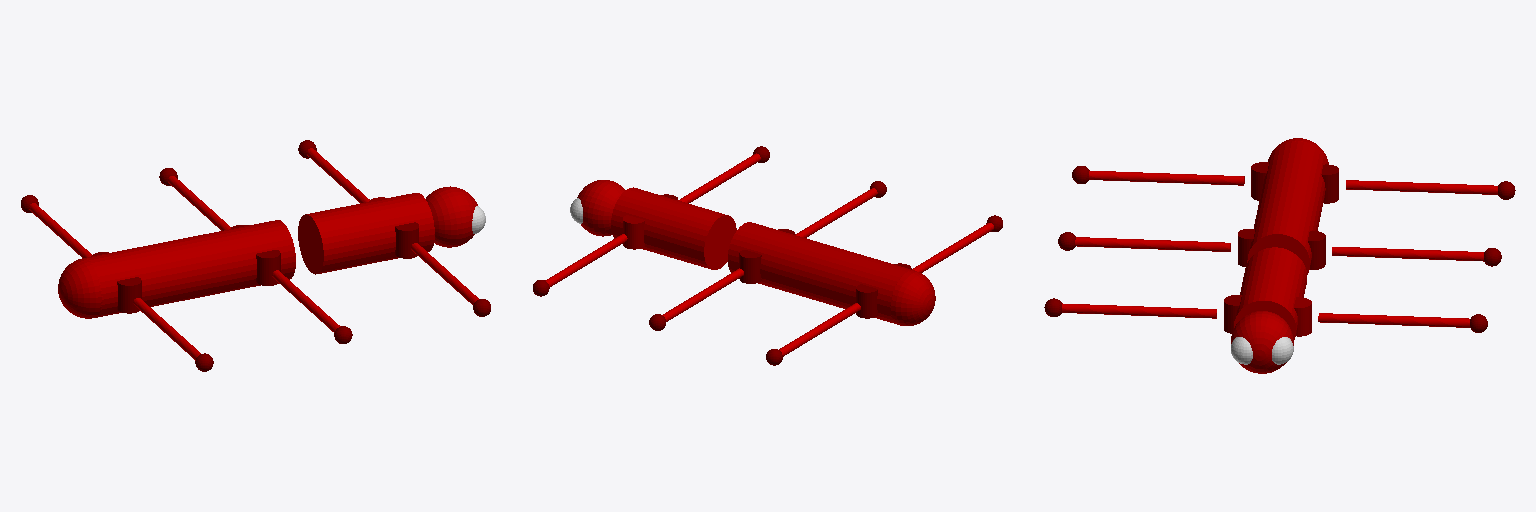
--- Facts derived from the render (not from the file) ---
Views: 3 orthographic renders of the robot side by side, from view 1: azimuth 30°, elevation 25°; view 2: azimuth 150°, elevation 25°; view 3: azimuth 270°, elevation 25°.
Model Body with 20 links and 19 joints (19 continuous), rooted at robot_base, posed every joint at zero.
Links seen in each view (by area): view 1: Bottom, robot_base, Coxa_4, Coxa_3, Tibia_4, Tibia_3, Tibia_6, Coxa_6, Tibia_5, Tibia, Tibia_2; view 2: Bottom, robot_base, Tibia, Tibia_2, Tibia_5, Tibia_3, Tibia_6, Tibia_4, Coxa, Coxa_2, Coxa_5; view 3: robot_base, Bottom, Tibia_3, Tibia_6, Tibia_4, Tibia_5, Tibia, Tibia_2, Femur_4, Femur_3, Femur_2, Femur_6 (+5 smaller).
Boxes of the visible links, x1,y1,x2,y2 form: Bottom: (58, 220, 295, 318); robot_base: (298, 186, 485, 274); Coxa_4: (117, 277, 141, 313); Coxa_3: (256, 250, 280, 285); Tibia_4: (159, 321, 213, 371); Tibia_3: (298, 294, 352, 343); Tibia_6: (437, 266, 490, 316); Coxa_6: (395, 222, 418, 258); Tibia_5: (298, 140, 349, 186); Tibia: (159, 168, 209, 215); Tibia_2: (21, 195, 70, 242); Bottom: (728, 222, 935, 325); robot_base: (570, 180, 736, 269); Tibia: (649, 288, 711, 330); Tibia_2: (766, 323, 827, 365); Tibia_5: (533, 254, 594, 296); Tibia_3: (825, 181, 886, 223); Tibia_6: (709, 146, 769, 189); Tibia_4: (943, 215, 1002, 257); Coxa: (739, 250, 761, 283); Coxa_2: (856, 284, 877, 318); Coxa_5: (623, 215, 644, 249); robot_base: (1231, 247, 1306, 373); Bottom: (1247, 138, 1328, 274); Tibia_3: (1058, 232, 1167, 250); Tibia_6: (1044, 298, 1153, 316); Tibia_4: (1072, 166, 1180, 183); Tibia_5: (1381, 314, 1487, 332); Tibia: (1395, 248, 1501, 266); Tibia_2: (1409, 181, 1515, 199); Femur_4: (1181, 174, 1244, 185); Femur_3: (1167, 240, 1230, 251); Femur_2: (1346, 180, 1408, 191); Femur_6: (1154, 307, 1216, 318).
Size in the robot's own frame: 0.7473 by 0.7459 by 0.1 metres.
Geometry: only primitive shapes (box / cylinder / sphere) drawn; not drawn: 2 mesh visuals (reference in a form the renderer does not follow).

robot.urdf — Body:
<?xml version="1.0"?>
<robot name="Body">
    <link name="robot_base">
        <inertial>
            <origin rpy="-1.570732 4.614213 -1.658126" xyz="-1.302407 -0.149667 0.124992" />
            <inertia izz="5.6240590621472e-06" iyy="3.9195142741455e-05" ixx="3.9369546794003e-05" iyz="7.21947716711e-11" ixz="1.4883479783928e-09" ixy="-2.7996715150358e-13" />
            <mass value="0.0049999998882413" />
        </inertial>
        <collision name="Body">
            <origin xyz="-1.349835 -0.145640 0.125000" rpy="2.896195 4.712383 -2.983463" />
            <geometry>
                <cylinder radius="0.050000000745058" length="0.20000000298023" />
            </geometry>
        </collision>
        <collision name="Body">
            <origin xyz="-1.175381 -0.133716 0.124975" rpy="-3.141593 3.141593 -2.356194" />
            <geometry>
                <sphere radius="0.025000000372529" />
            </geometry>
        </collision>
        <collision name="Body">
            <origin xyz="-1.200382 -0.158716 0.124975" rpy="2.929281 4.712383 -3.016549" />
            <geometry>
                <sphere radius="0.050000000745058" />
            </geometry>
        </collision>
        <collision name="Body">
            <origin xyz="-1.250191 -0.154358 0.124976" rpy="0.135751 1.570807 0.048483" />
            <geometry>
                <cylinder radius="0.025000000372529" length="0.050000000745058" />
            </geometry>
        </collision>
        <collision name="Body">
            <origin xyz="-1.175382 -0.183716 0.124975" rpy="3.141593 3.141593 2.356195" />
            <geometry>
                <sphere radius="0.025000000372529" />
            </geometry>
        </collision>
        <visual name="Body">
            <origin xyz="-1.349835 -0.145640 0.125000" rpy="2.896195 4.712383 -2.983463" />
            <geometry>
                <cylinder radius="0.050000000745058" length="0.20000000298023" />
            </geometry>
            <material name="robot_base_material">
                <color rgba="0.720000 0.000000 0.000000 1.0" />
            </material>
        </visual>
        <visual name="Body">
            <origin xyz="-1.175381 -0.133716 0.124975" rpy="-3.141593 3.141593 -2.356194" />
            <geometry>
                <sphere radius="0.025000000372529" />
            </geometry>
            <material name="robot_base_material">
                <color rgba="0.850000 0.850000 0.850000 1.0" />
            </material>
        </visual>
        <visual name="Body">
            <origin xyz="-1.200382 -0.158716 0.124975" rpy="2.929281 4.712383 -3.016549" />
            <geometry>
                <sphere radius="0.050000000745058" />
            </geometry>
            <material name="robot_base_material">
                <color rgba="0.712421 0.007579 0.007579 1.0" />
            </material>
        </visual>
        <visual name="Body">
            <origin xyz="-1.250191 -0.154358 0.124976" rpy="0.135751 1.570807 0.048483" />
            <geometry>
                <cylinder radius="0.025000000372529" length="0.050000000745058" />
            </geometry>
            <material name="robot_base_material">
                <color rgba="0.730000 0.000000 0.000000 1.0" />
            </material>
        </visual>
        <visual name="Body">
            <origin xyz="-1.175382 -0.183716 0.124975" rpy="3.141593 3.141593 2.356195" />
            <geometry>
                <sphere radius="0.025000000372529" />
            </geometry>
            <material name="robot_base_material">
                <color rgba="0.850000 0.850000 0.850000 1.0" />
            </material>
        </visual>
        <visual name="leftFinger_visible">
            <origin xyz="-1.167511 -0.143113 0.084538" rpy="-0.698133 3.141593 -1.570796" />
            <geometry>
                <mesh filename="file://[local-path]/Documents/mujoco-3.2.7/model/ant_robot/ant_robot_leftFinger_visible_vis_1.dae" />
            </geometry>
            <material name="leftFinger_visible_material">
                <color rgba="0.460000 0.460000 0.460000 1.0" />
            </material>
        </visual>
        <visual name="rightFinger_visible">
            <origin xyz="-1.168081 -0.178933 0.084196" rpy="-0.698131 3.141593 -1.570797" />
            <geometry>
                <mesh filename="file://[local-path]/Documents/mujoco-3.2.7/model/ant_robot/ant_robot_rightFinger_visible_vis_1.dae" />
            </geometry>
            <material name="rightFinger_visible_material">
                <color rgba="0.460000 0.460000 0.460000 1.0" />
            </material>
        </visual>
    </link>
    <joint type="continuous" name="Body_joint">
        <axis xyz="0 0 1" />
        <parent link="robot_base" />
        <child link="Bottom" />
        <origin xyz="-1.474360 -0.134746 0.125001" rpy="-1.570798 3.141583 3.054325" />
    </joint>
    <link name="Bottom">
        <inertial>
            <origin rpy="-1.570797 2.500451 -1.570796" xyz="-0.230605 -0.000004 0.000000" />
            <inertia izz="5.8778560341191e-06" iyy="6.6221420104302e-05" ixx="6.6221420104015e-05" iyz="3.5358726816156e-11" ixz="-1.3634570667995e-10" ixy="7.9893021225035e-17" />
            <mass value="0.0049999998882413" />
        </inertial>
        <collision name="Bottom">
            <origin xyz="-0.200000 0.000000 -0.000000" rpy="1.570796 3.141593 -1.570792" />
            <geometry>
                <cylinder radius="0.050000000745058" length="0.34999999403954" />
            </geometry>
        </collision>
        <collision name="Bottom">
            <origin xyz="-0.374975 -0.000023 0.000001" rpy="-1.570793 3.817891 -1.570804" />
            <geometry>
                <sphere radius="0.050000000745058" />
            </geometry>
        </collision>
        <collision name="Bottom">
            <origin xyz="-0.324975 -0.000023 0.000001" rpy="-1.570797 2.465294 1.570795" />
            <geometry>
                <cylinder radius="0.025000000372529" length="0.050000000745058" />
            </geometry>
        </collision>
        <visual name="Bottom">
            <origin xyz="-0.200000 0.000000 -0.000000" rpy="1.570796 3.141593 -1.570792" />
            <geometry>
                <cylinder radius="0.050000000745058" length="0.34999999403954" />
            </geometry>
            <material name="Bottom_material">
                <color rgba="0.710000 0.000000 0.000000 1.0" />
            </material>
        </visual>
        <visual name="Bottom">
            <origin xyz="-0.374975 -0.000023 0.000001" rpy="-1.570793 3.817891 -1.570804" />
            <geometry>
                <sphere radius="0.050000000745058" />
            </geometry>
            <material name="Bottom_material">
                <color rgba="0.710000 0.000000 0.000000 1.0" />
            </material>
        </visual>
        <visual name="Bottom">
            <origin xyz="-0.324975 -0.000023 0.000001" rpy="-1.570797 2.465294 1.570795" />
            <geometry>
                <cylinder radius="0.025000000372529" length="0.050000000745058" />
            </geometry>
            <material name="Bottom_material">
                <color rgba="0.850000 0.850000 1.000000 1.0" />
            </material>
        </visual>
    </link>
    <joint type="continuous" name="TL_joint1">
        <axis xyz="0 0 1" />
        <parent link="Bottom" />
        <child link="Coxa" />
        <origin xyz="-0.075000 -0.000001 -0.050000" rpy="-1.570796 1.570796 0.000000" />
    </joint>
    <link name="Coxa">
        <inertial>
            <origin rpy="-3.141593 3.141593 1.570796" xyz="0.000000 0.000000 -0.000000" />
            <inertia izz="9.9359499980111e-07" iyy="1.538464241267e-06" ixx="1.538464241267e-06" iyz="7.7691345506748e-17" ixz="1.1605313728143e-18" ixy="3.0175490704313e-28" />
            <mass value="0.0049999998882413" />
        </inertial>
        <collision name="Coxa">
            <origin xyz="0.000000 0.000000 0.000000" rpy="-3.141593 3.141593 1.570796" />
            <geometry>
                <cylinder radius="0.019999999552965" length="0.050000000745058" />
            </geometry>
        </collision>
        <visual name="Coxa">
            <origin xyz="0.000000 0.000000 0.000000" rpy="-3.141593 3.141593 1.570796" />
            <geometry>
                <cylinder radius="0.019999999552965" length="0.050000000745058" />
            </geometry>
            <material name="Coxa_material">
                <color rgba="0.500000 0.000000 0.000000 1.0" />
            </material>
        </visual>
    </link>
    <joint type="continuous" name="CL_joint1">
        <axis xyz="0 0 1" />
        <parent link="Coxa" />
        <child link="Femur" />
        <origin xyz="0.031000 -0.000000 0.000000" rpy="-1.570820 3.141594 -3.141590" />
    </joint>
    <link name="Femur">
        <inertial>
            <origin rpy="-3.131108 4.712363 3.131107" xyz="0.049996 0.000001 -0.000005" />
            <inertia izz="1.3972430366824e-07" iyy="4.2365280895711e-06" ixx="4.2365280895711e-06" iyz="3.0511016997613e-14" ixz="7.343000434505e-18" ixy="-2.6283264826561e-25" />
            <mass value="0.0049999998882413" />
        </inertial>
        <collision name="Femur">
            <origin xyz="0.049996 0.000001 -0.000005" rpy="-3.131108 4.712363 3.131107" />
            <geometry>
                <cylinder radius="0.0074999998323619" length="0.099999994039536" />
            </geometry>
        </collision>
        <visual name="Femur">
            <origin xyz="0.049996 0.000001 -0.000005" rpy="-3.131108 4.712363 3.131107" />
            <geometry>
                <cylinder radius="0.0074999998323619" length="0.099999994039536" />
            </geometry>
            <material name="Femur_material">
                <color rgba="0.800000 0.000000 0.000000 1.0" />
            </material>
        </visual>
    </link>
    <joint type="continuous" name="FL_joint1">
        <axis xyz="0 0 1" />
        <parent link="Femur" />
        <child link="Tibia" />
        <origin xyz="0.100001 -0.000001 -0.000000" rpy="3.141592 3.141592 3.141591" />
    </joint>
    <link name="Tibia">
        <inertial>
            <origin rpy="1.392270 1.869027 -1.727240" xyz="0.102320 0.000006 -0.000005" />
            <inertia izz="1.3346493286781e-05" iyy="1.6364807642002e-06" ixx="1.2045488299944e-05" iyz="-7.2888872903507e-07" ixz="2.4646314102747e-07" ixy="3.9774151838564e-06" />
            <mass value="0.0049999998882413" />
        </inertial>
        <collision name="Tibia">
            <origin xyz="0.075016 0.000006 -0.000005" rpy="-3.096728 4.712254 3.096729" />
            <geometry>
                <cylinder radius="0.0074999998323619" length="0.15000000596046" />
            </geometry>
        </collision>
        <collision name="Tibia">
            <origin xyz="0.154013 0.000006 -0.000005" rpy="-2.161445 4.712251 0.590646" />
            <geometry>
                <sphere radius="0.014999999664724" />
            </geometry>
        </collision>
        <visual name="Tibia">
            <origin xyz="0.075016 0.000006 -0.000005" rpy="-3.096728 4.712254 3.096729" />
            <geometry>
                <cylinder radius="0.0074999998323619" length="0.15000000596046" />
            </geometry>
            <material name="Tibia_material">
                <color rgba="0.800000 0.000000 0.000000 1.0" />
            </material>
        </visual>
        <visual name="Tibia">
            <origin xyz="0.154013 0.000006 -0.000005" rpy="-2.161445 4.712251 0.590646" />
            <geometry>
                <sphere radius="0.014999999664724" />
            </geometry>
            <material name="Tibia_material">
                <color rgba="0.500000 0.000000 0.000000 1.0" />
            </material>
        </visual>
    </link>
    <joint type="continuous" name="TL_joint2">
        <axis xyz="0 0 1" />
        <parent link="Bottom" />
        <child link="Coxa_2" />
        <origin xyz="-0.324968 -0.000017 -0.050000" rpy="-1.570795 1.570796 0.000000" />
    </joint>
    <link name="Coxa_2">
        <inertial>
            <origin rpy="-3.141593 3.141593 1.570796" xyz="0.000000 0.000000 -0.000000" />
            <inertia izz="9.9359499980111e-07" iyy="1.538464241267e-06" ixx="1.538464241267e-06" iyz="7.7691345506748e-17" ixz="1.1605313728143e-18" ixy="3.0175490704313e-28" />
            <mass value="0.0049999998882413" />
        </inertial>
        <collision name="Coxa">
            <origin xyz="0.000000 0.000000 0.000000" rpy="-3.141593 3.141593 1.570796" />
            <geometry>
                <cylinder radius="0.019999999552965" length="0.050000000745058" />
            </geometry>
        </collision>
        <visual name="Coxa">
            <origin xyz="0.000000 0.000000 0.000000" rpy="-3.141593 3.141593 1.570796" />
            <geometry>
                <cylinder radius="0.019999999552965" length="0.050000000745058" />
            </geometry>
            <material name="Coxa_2_material">
                <color rgba="0.500000 0.000000 0.000000 1.0" />
            </material>
        </visual>
    </link>
    <joint type="continuous" name="CL_joint2">
        <axis xyz="0 0 1" />
        <parent link="Coxa_2" />
        <child link="Femur_2" />
        <origin xyz="0.031000 -0.000000 0.000000" rpy="-1.570820 3.141594 -3.141590" />
    </joint>
    <link name="Femur_2">
        <inertial>
            <origin rpy="-3.131108 4.712363 3.131107" xyz="0.049996 0.000001 -0.000005" />
            <inertia izz="1.3972430366824e-07" iyy="4.2365280895711e-06" ixx="4.2365280895711e-06" iyz="3.0511016997613e-14" ixz="7.343000434505e-18" ixy="-2.6283264826561e-25" />
            <mass value="0.0049999998882413" />
        </inertial>
        <collision name="Femur">
            <origin xyz="0.049996 0.000001 -0.000005" rpy="-3.131108 4.712363 3.131107" />
            <geometry>
                <cylinder radius="0.0074999998323619" length="0.099999994039536" />
            </geometry>
        </collision>
        <visual name="Femur">
            <origin xyz="0.049996 0.000001 -0.000005" rpy="-3.131108 4.712363 3.131107" />
            <geometry>
                <cylinder radius="0.0074999998323619" length="0.099999994039536" />
            </geometry>
            <material name="Femur_2_material">
                <color rgba="0.800000 0.000000 0.000000 1.0" />
            </material>
        </visual>
    </link>
    <joint type="continuous" name="FL_joint2">
        <axis xyz="0 0 1" />
        <parent link="Femur_2" />
        <child link="Tibia_2" />
        <origin xyz="0.100001 -0.000001 -0.000000" rpy="3.141592 3.141592 3.141591" />
    </joint>
    <link name="Tibia_2">
        <inertial>
            <origin rpy="1.391767 1.869027 -1.727241" xyz="0.102321 0.000006 -0.000004" />
            <inertia izz="1.3345140633848e-05" iyy="1.6300193173605e-06" ixx="1.2053302763515e-05" iyz="-7.399159479264e-07" ixz="2.4939934318579e-07" ixy="3.9669414798638e-06" />
            <mass value="0.0049999998882413" />
        </inertial>
        <collision name="Tibia">
            <origin xyz="0.075016 0.000006 -0.000004" rpy="-3.097606 4.712254 3.097607" />
            <geometry>
                <cylinder radius="0.0074999998323619" length="0.15000000596046" />
            </geometry>
        </collision>
        <collision name="Tibia">
            <origin xyz="0.154014 0.000005 -0.000004" rpy="-2.160708 4.712251 0.589909" />
            <geometry>
                <sphere radius="0.014999999664724" />
            </geometry>
        </collision>
        <visual name="Tibia">
            <origin xyz="0.075016 0.000006 -0.000004" rpy="-3.097606 4.712254 3.097607" />
            <geometry>
                <cylinder radius="0.0074999998323619" length="0.15000000596046" />
            </geometry>
            <material name="Tibia_2_material">
                <color rgba="0.800000 0.000000 0.000000 1.0" />
            </material>
        </visual>
        <visual name="Tibia">
            <origin xyz="0.154014 0.000005 -0.000004" rpy="-2.160708 4.712251 0.589909" />
            <geometry>
                <sphere radius="0.014999999664724" />
            </geometry>
            <material name="Tibia_2_material">
                <color rgba="0.500000 0.000000 0.000000 1.0" />
            </material>
        </visual>
    </link>
    <joint type="continuous" name="TR_joint1">
        <axis xyz="0 0 1" />
        <parent link="Bottom" />
        <child link="Coxa_3" />
        <origin xyz="-0.075000 -0.000003 0.050001" rpy="1.570796 1.570796 0.000000" />
    </joint>
    <link name="Coxa_3">
        <inertial>
            <origin rpy="-0.000001 3.141593 1.570796" xyz="-0.000000 0.000000 0.000000" />
            <inertia izz="9.9359499980111e-07" iyy="1.538464241267e-06" ixx="1.538464241267e-06" iyz="7.7691345506748e-17" ixz="1.1605313728143e-18" ixy="3.0175490704313e-28" />
            <mass value="0.0049999998882413" />
        </inertial>
        <collision name="Coxa">
            <origin xyz="0.000000 0.000000 0.000000" rpy="-0.000001 3.141593 1.570796" />
            <geometry>
                <cylinder radius="0.019999999552965" length="0.050000000745058" />
            </geometry>
        </collision>
        <visual name="Coxa">
            <origin xyz="0.000000 0.000000 0.000000" rpy="-0.000001 3.141593 1.570796" />
            <geometry>
                <cylinder radius="0.019999999552965" length="0.050000000745058" />
            </geometry>
            <material name="Coxa_3_material">
                <color rgba="0.500000 0.000000 0.000000 1.0" />
            </material>
        </visual>
    </link>
    <joint type="continuous" name="CR_joint1">
        <axis xyz="0 0 1" />
        <parent link="Coxa_3" />
        <child link="Femur_3" />
        <origin xyz="-0.031000 -0.000000 0.000000" rpy="1.570773 3.141592 -0.000002" />
    </joint>
    <link name="Femur_3">
        <inertial>
            <origin rpy="-3.131108 4.712363 3.131107" xyz="0.049996 0.000001 -0.000005" />
            <inertia izz="1.3972430366824e-07" iyy="4.2365280895711e-06" ixx="4.2365280895711e-06" iyz="3.0511016997613e-14" ixz="7.343000434505e-18" ixy="-2.6283264826561e-25" />
            <mass value="0.0049999998882413" />
        </inertial>
        <collision name="Femur">
            <origin xyz="0.049996 0.000001 -0.000005" rpy="-3.131108 4.712363 3.131107" />
            <geometry>
                <cylinder radius="0.0074999998323619" length="0.099999994039536" />
            </geometry>
        </collision>
        <visual name="Femur">
            <origin xyz="0.049996 0.000001 -0.000005" rpy="-3.131108 4.712363 3.131107" />
            <geometry>
                <cylinder radius="0.0074999998323619" length="0.099999994039536" />
            </geometry>
            <material name="Femur_3_material">
                <color rgba="0.800000 0.000000 0.000000 1.0" />
            </material>
        </visual>
    </link>
    <joint type="continuous" name="FR_joint1">
        <axis xyz="0 0 1" />
        <parent link="Femur_3" />
        <child link="Tibia_3" />
        <origin xyz="0.100001 -0.000001 -0.000000" rpy="3.141592 3.141592 3.141591" />
    </joint>
    <link name="Tibia_3">
        <inertial>
            <origin rpy="1.570513 2.061631 1.570548" xyz="0.104039 0.000007 -0.000004" />
            <inertia izz="2.4547644884974e-07" iyy="1.4307468328892e-05" ixx="1.4307963964898e-05" iyz="5.1311191339726e-10" ixz="2.0708528835157e-09" ixy="-1.3951477201398e-12" />
            <mass value="0.0049999998882413" />
        </inertial>
        <collision name="Tibia">
            <origin xyz="0.075016 0.000006 -0.000004" rpy="-3.096748 4.712254 3.096749" />
            <geometry>
                <cylinder radius="0.0074999998323619" length="0.15000000596046" />
            </geometry>
        </collision>
        <collision name="Tibia">
            <origin xyz="0.158985 0.000008 -0.000004" rpy="1.317707 1.570915 2.888506" />
            <geometry>
                <sphere radius="0.014999999664724" />
            </geometry>
        </collision>
        <visual name="Tibia">
            <origin xyz="0.075016 0.000006 -0.000004" rpy="-3.096748 4.712254 3.096749" />
            <geometry>
                <cylinder radius="0.0074999998323619" length="0.15000000596046" />
            </geometry>
            <material name="Tibia_3_material">
                <color rgba="0.800000 0.000000 0.000000 1.0" />
            </material>
        </visual>
        <visual name="Tibia">
            <origin xyz="0.158985 0.000008 -0.000004" rpy="1.317707 1.570915 2.888506" />
            <geometry>
                <sphere radius="0.014999999664724" />
            </geometry>
            <material name="Tibia_3_material">
                <color rgba="0.500000 0.000000 0.000000 1.0" />
            </material>
        </visual>
    </link>
    <joint type="continuous" name="TR_joint2">
        <axis xyz="0 0 1" />
        <parent link="Bottom" />
        <child link="Coxa_4" />
        <origin xyz="-0.324965 -0.000021 0.050001" rpy="-3.089770 1.570799 1.622620" />
    </joint>
    <link name="Coxa_4">
        <inertial>
            <origin rpy="-0.000001 3.141593 1.570796" xyz="-0.000000 0.000000 0.000000" />
            <inertia izz="9.9359499980111e-07" iyy="1.538464241267e-06" ixx="1.538464241267e-06" iyz="7.7691345506748e-17" ixz="1.1605313728143e-18" ixy="3.0175490704313e-28" />
            <mass value="0.0049999998882413" />
        </inertial>
        <collision name="Coxa">
            <origin xyz="0.000000 0.000000 0.000000" rpy="-0.000001 3.141593 1.570796" />
            <geometry>
                <cylinder radius="0.019999999552965" length="0.050000000745058" />
            </geometry>
        </collision>
        <visual name="Coxa">
            <origin xyz="0.000000 0.000000 0.000000" rpy="-0.000001 3.141593 1.570796" />
            <geometry>
                <cylinder radius="0.019999999552965" length="0.050000000745058" />
            </geometry>
            <material name="Coxa_4_material">
                <color rgba="0.500000 0.000000 0.000000 1.0" />
            </material>
        </visual>
    </link>
    <joint type="continuous" name="CR_joint2">
        <axis xyz="0 0 1" />
        <parent link="Coxa_4" />
        <child link="Femur_4" />
        <origin xyz="-0.031000 -0.000000 0.000000" rpy="1.570773 3.141592 -0.000002" />
    </joint>
    <link name="Femur_4">
        <inertial>
            <origin rpy="-3.131108 4.712363 3.131107" xyz="0.049996 0.000001 -0.000005" />
            <inertia izz="1.3972430366824e-07" iyy="4.2365280895711e-06" ixx="4.2365280895711e-06" iyz="3.0511016997613e-14" ixz="7.343000434505e-18" ixy="-2.6283264826561e-25" />
            <mass value="0.0049999998882413" />
        </inertial>
        <collision name="Femur">
            <origin xyz="0.049996 0.000001 -0.000005" rpy="-3.131108 4.712363 3.131107" />
            <geometry>
                <cylinder radius="0.0074999998323619" length="0.099999994039536" />
            </geometry>
        </collision>
        <visual name="Femur">
            <origin xyz="0.049996 0.000001 -0.000005" rpy="-3.131108 4.712363 3.131107" />
            <geometry>
                <cylinder radius="0.0074999998323619" length="0.099999994039536" />
            </geometry>
            <material name="Femur_4_material">
                <color rgba="0.800000 0.000000 0.000000 1.0" />
            </material>
        </visual>
    </link>
    <joint type="continuous" name="FR_joint2">
        <axis xyz="0 0 1" />
        <parent link="Femur_4" />
        <child link="Tibia_4" />
        <origin xyz="0.100001 -0.000001 -0.000000" rpy="3.141592 3.141592 3.141591" />
    </joint>
    <link name="Tibia_4">
        <inertial>
            <origin rpy="1.570946 3.632450 -1.570867" xyz="0.104039 0.000007 -0.000004" />
            <inertia izz="2.4547592650998e-07" iyy="1.4307965430683e-05" ixx="1.4307475279861e-05" iyz="2.1557911358413e-10" ixz="8.6079063805682e-10" ixy="1.3020356006122e-12" />
            <mass value="0.0049999998882413" />
        </inertial>
        <collision name="Tibia">
            <origin xyz="0.075016 0.000006 -0.000005" rpy="-3.096573 4.712254 3.096574" />
            <geometry>
                <cylinder radius="0.0074999998323619" length="0.15000000596046" />
            </geometry>
        </collision>
        <collision name="Tibia">
            <origin xyz="0.158985 0.000008 -0.000004" rpy="1.318311 1.570915 2.889109" />
            <geometry>
                <sphere radius="0.014999999664724" />
            </geometry>
        </collision>
        <visual name="Tibia">
            <origin xyz="0.075016 0.000006 -0.000005" rpy="-3.096573 4.712254 3.096574" />
            <geometry>
                <cylinder radius="0.0074999998323619" length="0.15000000596046" />
            </geometry>
            <material name="Tibia_4_material">
                <color rgba="0.800000 0.000000 0.000000 1.0" />
            </material>
        </visual>
        <visual name="Tibia">
            <origin xyz="0.158985 0.000008 -0.000004" rpy="1.318311 1.570915 2.889109" />
            <geometry>
                <sphere radius="0.014999999664724" />
            </geometry>
            <material name="Tibia_4_material">
                <color rgba="0.500000 0.000000 0.000000 1.0" />
            </material>
        </visual>
    </link>
    <joint type="continuous" name="TL_joint0">
        <axis xyz="0 0 1" />
        <parent link="robot_base" />
        <child link="Coxa_5" />
        <origin xyz="-1.295639 -0.100191 0.124977" rpy="-3.141583 3.141591 -1.658064" />
    </joint>
    <link name="Coxa_5">
        <inertial>
            <origin rpy="-3.141593 3.141593 1.570796" xyz="0.000000 0.000000 -0.000000" />
            <inertia izz="9.9359499980111e-07" iyy="1.538464241267e-06" ixx="1.538464241267e-06" iyz="7.7691345506748e-17" ixz="1.1605313728143e-18" ixy="3.0175490704313e-28" />
            <mass value="0.0049999998882413" />
        </inertial>
        <collision name="Coxa">
            <origin xyz="0.000000 0.000000 0.000000" rpy="-3.141593 3.141593 1.570796" />
            <geometry>
                <cylinder radius="0.019999999552965" length="0.050000000745058" />
            </geometry>
        </collision>
        <visual name="Coxa">
            <origin xyz="0.000000 0.000000 0.000000" rpy="-3.141593 3.141593 1.570796" />
            <geometry>
                <cylinder radius="0.019999999552965" length="0.050000000745058" />
            </geometry>
            <material name="Coxa_5_material">
                <color rgba="0.600000 0.000000 0.000000 1.0" />
            </material>
        </visual>
    </link>
    <joint type="continuous" name="CL_joint0">
        <axis xyz="0 0 1" />
        <parent link="Coxa_5" />
        <child link="Femur_5" />
        <origin xyz="0.031000 -0.000000 0.000000" rpy="-1.570820 3.141594 -3.141590" />
    </joint>
    <link name="Femur_5">
        <inertial>
            <origin rpy="-3.131108 4.712363 3.131107" xyz="0.049996 0.000001 -0.000005" />
            <inertia izz="1.3972430366824e-07" iyy="4.2365280895711e-06" ixx="4.2365280895711e-06" iyz="3.0511016997613e-14" ixz="7.343000434505e-18" ixy="-2.6283264826561e-25" />
            <mass value="0.0049999998882413" />
        </inertial>
        <collision name="Femur">
            <origin xyz="0.049996 0.000001 -0.000005" rpy="-3.131108 4.712363 3.131107" />
            <geometry>
                <cylinder radius="0.0074999998323619" length="0.099999994039536" />
            </geometry>
        </collision>
        <visual name="Femur">
            <origin xyz="0.049996 0.000001 -0.000005" rpy="-3.131108 4.712363 3.131107" />
            <geometry>
                <cylinder radius="0.0074999998323619" length="0.099999994039536" />
            </geometry>
            <material name="Femur_5_material">
                <color rgba="0.800000 0.000000 0.000000 1.0" />
            </material>
        </visual>
    </link>
    <joint type="continuous" name="FL_joint0">
        <axis xyz="0 0 1" />
        <parent link="Femur_5" />
        <child link="Tibia_5" />
        <origin xyz="0.100001 -0.000001 -0.000000" rpy="3.141592 3.141592 3.141591" />
    </joint>
    <link name="Tibia_5">
        <inertial>
            <origin rpy="1.392273 1.869027 -1.727237" xyz="0.102322 0.000006 0.000001" />
            <inertia izz="1.3346233969624e-05" iyy="1.631588432563e-06" ixx="1.2049967377421e-05" iyz="-7.2840923733208e-07" ixz="2.4581218802597e-07" ixy="3.9710618910685e-06" />
            <mass value="0.0049999998882413" />
        </inertial>
        <collision name="Tibia">
            <origin xyz="0.075018 0.000006 -0.000005" rpy="-3.126854 4.712259 3.126855" />
            <geometry>
                <cylinder radius="0.0074999998323619" length="0.15000000596046" />
            </geometry>
        </collision>
        <collision name="Tibia">
            <origin xyz="0.154014 0.000006 0.000012" rpy="-2.164582 4.712251 0.593783" />
            <geometry>
                <sphere radius="0.014999999664724" />
            </geometry>
        </collision>
        <visual name="Tibia">
            <origin xyz="0.075018 0.000006 -0.000005" rpy="-3.126854 4.712259 3.126855" />
            <geometry>
                <cylinder radius="0.0074999998323619" length="0.15000000596046" />
            </geometry>
            <material name="Tibia_5_material">
                <color rgba="0.800000 0.000000 0.000000 1.0" />
            </material>
        </visual>
        <visual name="Tibia">
            <origin xyz="0.154014 0.000006 0.000012" rpy="-2.164582 4.712251 0.593783" />
            <geometry>
                <sphere radius="0.014999999664724" />
            </geometry>
            <material name="Tibia_5_material">
                <color rgba="0.500000 0.000000 0.000000 1.0" />
            </material>
        </visual>
    </link>
    <joint type="continuous" name="TR_joint0">
        <axis xyz="0 0 1" />
        <parent link="robot_base" />
        <child link="Coxa_6" />
        <origin xyz="-1.304355 -0.199811 0.124973" rpy="0.000008 3.141589 -1.658064" />
    </joint>
    <link name="Coxa_6">
        <inertial>
            <origin rpy="-0.000001 3.141593 1.570796" xyz="-0.000000 0.000000 0.000000" />
            <inertia izz="9.9359499980111e-07" iyy="1.538464241267e-06" ixx="1.538464241267e-06" iyz="7.7691345506748e-17" ixz="1.1605313728143e-18" ixy="3.0175490704313e-28" />
            <mass value="0.0049999998882413" />
        </inertial>
        <collision name="Coxa">
            <origin xyz="0.000000 0.000000 0.000000" rpy="-0.000001 3.141593 1.570796" />
            <geometry>
                <cylinder radius="0.019999999552965" length="0.050000000745058" />
            </geometry>
        </collision>
        <visual name="Coxa">
            <origin xyz="0.000000 0.000000 0.000000" rpy="-0.000001 3.141593 1.570796" />
            <geometry>
                <cylinder radius="0.019999999552965" length="0.050000000745058" />
            </geometry>
            <material name="Coxa_6_material">
                <color rgba="0.500000 0.000000 0.000000 1.0" />
            </material>
        </visual>
    </link>
    <joint type="continuous" name="CR_joint0">
        <axis xyz="0 0 1" />
        <parent link="Coxa_6" />
        <child link="Femur_6" />
        <origin xyz="-0.031000 -0.000000 0.000000" rpy="1.570773 3.141592 -0.000002" />
    </joint>
    <link name="Femur_6">
        <inertial>
            <origin rpy="-3.131108 4.712363 3.131107" xyz="0.049996 0.000001 -0.000005" />
            <inertia izz="1.3972430366824e-07" iyy="4.2365280895711e-06" ixx="4.2365280895711e-06" iyz="3.0511016997613e-14" ixz="7.343000434505e-18" ixy="-2.6283264826561e-25" />
            <mass value="0.0049999998882413" />
        </inertial>
        <collision name="Femur">
            <origin xyz="0.049996 0.000001 -0.000005" rpy="-3.131108 4.712363 3.131107" />
            <geometry>
                <cylinder radius="0.0074999998323619" length="0.099999994039536" />
            </geometry>
        </collision>
        <visual name="Femur">
            <origin xyz="0.049996 0.000001 -0.000005" rpy="-3.131108 4.712363 3.131107" />
            <geometry>
                <cylinder radius="0.0074999998323619" length="0.099999994039536" />
            </geometry>
            <material name="Femur_6_material">
                <color rgba="0.800000 0.000000 0.000000 1.0" />
            </material>
        </visual>
    </link>
    <joint type="continuous" name="FR_joint0">
        <axis xyz="0 0 1" />
        <parent link="Femur_6" />
        <child link="Tibia_6" />
        <origin xyz="0.100001 -0.000001 -0.000000" rpy="3.141592 3.141592 3.141591" />
    </joint>
    <link name="Tibia_6">
        <inertial>
            <origin rpy="-1.570639 3.632444 -1.570868" xyz="0.104038 0.000007 -0.000007" />
            <inertia izz="2.4547643806814e-07" iyy="1.4307946802609e-05" ixx="1.4307453196712e-05" iyz="1.3380044789538e-10" ixz="-5.3802719927801e-10" ixy="-1.8780330936647e-12" />
            <mass value="0.0049999998882413" />
        </inertial>
        <collision name="Tibia">
            <origin xyz="0.075015 0.000006 -0.000004" rpy="-3.096097 4.712254 3.096098" />
            <geometry>
                <cylinder radius="0.0074999998323619" length="0.15000000596046" />
            </geometry>
        </collision>
        <collision name="Tibia">
            <origin xyz="0.158985 0.000008 -0.000011" rpy="1.317856 1.570915 2.888655" />
            <geometry>
                <sphere radius="0.014999999664724" />
            </geometry>
        </collision>
        <visual name="Tibia">
            <origin xyz="0.075015 0.000006 -0.000004" rpy="-3.096097 4.712254 3.096098" />
            <geometry>
                <cylinder radius="0.0074999998323619" length="0.15000000596046" />
            </geometry>
            <material name="Tibia_6_material">
                <color rgba="0.800000 0.000000 0.000000 1.0" />
            </material>
        </visual>
        <visual name="Tibia">
            <origin xyz="0.158985 0.000008 -0.000011" rpy="1.317856 1.570915 2.888655" />
            <geometry>
                <sphere radius="0.014999999664724" />
            </geometry>
            <material name="Tibia_6_material">
                <color rgba="0.500000 0.000000 0.000000 1.0" />
            </material>
        </visual>
    </link>
</robot>
